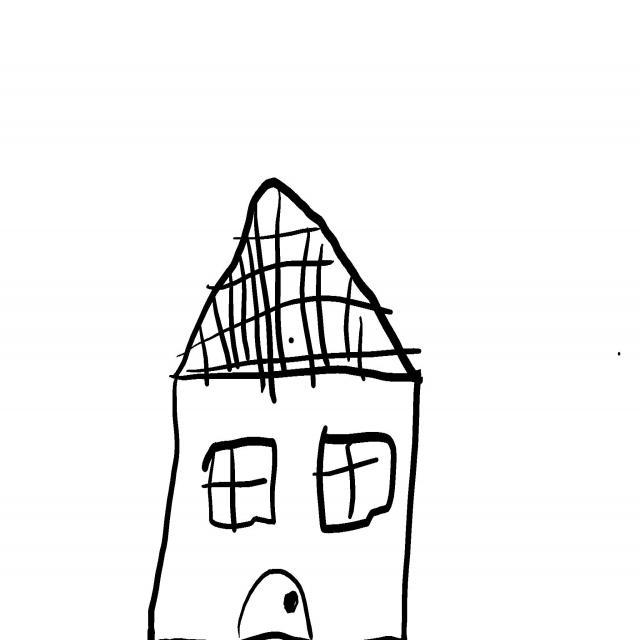door: (232, 559, 317, 640)
house: (147, 179, 423, 640)
roof: (172, 172, 425, 382)
wall: (139, 371, 424, 640)
window: (313, 422, 400, 542), (202, 432, 281, 532)
